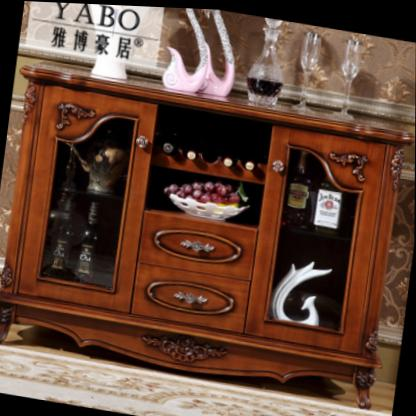Cupboard: (0, 63, 414, 405)
